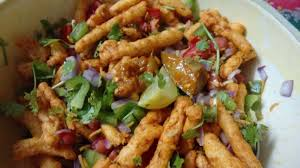kurkure: (23, 9, 255, 161)
